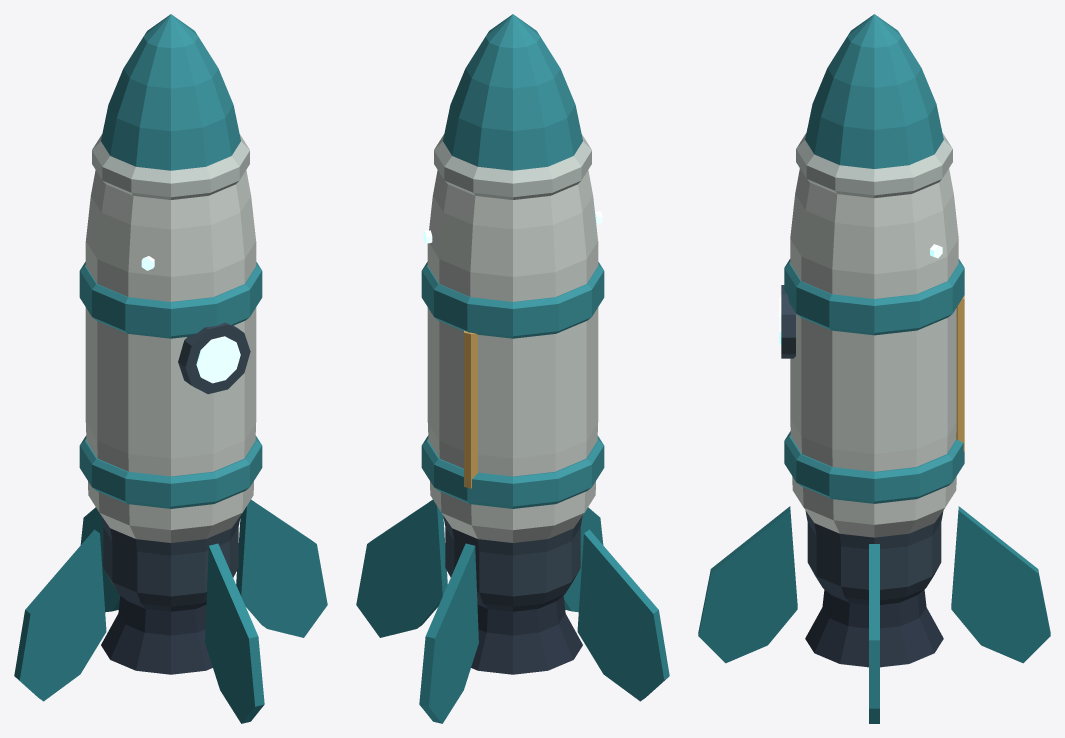
Rendered from explorer-rocket-v1.glb.
The picture shows the model from 3 angles, left to right: view 1: azimuth 30°, elevation 25°; view 2: azimuth 150°, elevation 25°; view 3: azimuth 270°, elevation 25°; orthographic projection.
Visible parts, largest first — view 1: ROCKET_HULL, ROCKET_NOSE_CONE, ROCKET_FIN_3, ROCKET_FIN_1, ROCKET_ENGINE_HOUSING, ROCKET_BAND_UPPER, ROCKET_FIN_4, ROCKET_NOZZLE, ROCKET_BAND_LOWER, ROCKET_COLLAR, ROCKET_COCKPIT_RIM, ROCKET_COCKPIT_GLASS (+1 smaller); view 2: ROCKET_HULL, ROCKET_NOSE_CONE, ROCKET_FIN_3, ROCKET_FIN_1, ROCKET_ENGINE_HOUSING, ROCKET_BAND_UPPER, ROCKET_FIN_2, ROCKET_NOZZLE, ROCKET_BAND_LOWER, ROCKET_COLLAR, ROCKET_DORSAL_STRIP, ROCKET_FIN_4; view 3: ROCKET_HULL, ROCKET_NOSE_CONE, ROCKET_FIN_2, ROCKET_FIN_4, ROCKET_ENGINE_HOUSING, ROCKET_NOZZLE, ROCKET_BAND_UPPER, ROCKET_BAND_LOWER, ROCKET_COLLAR, ROCKET_FIN_1, ROCKET_DORSAL_STRIP, ROCKET_COCKPIT_RIM.
Boxes of the visible parts, x1,y1,x2,y2 form: ROCKET_HULL: (85,170,256,542); ROCKET_NOSE_CONE: (101,14,240,170); ROCKET_FIN_3: (14,529,106,701); ROCKET_FIN_1: (236,499,327,637); ROCKET_ENGINE_HOUSING: (101,516,240,606); ROCKET_BAND_UPPER: (79,262,262,338); ROCKET_FIN_4: (205,543,264,723); ROCKET_NOZZLE: (101,595,212,674); ROCKET_BAND_LOWER: (79,435,262,508); ROCKET_COLLAR: (92,134,249,199); ROCKET_COCKPIT_RIM: (178,322,250,394); ROCKET_COCKPIT_GLASS: (196,336,240,383); ROCKET_HULL: (427,170,598,542); ROCKET_NOSE_CONE: (443,14,582,170); ROCKET_FIN_3: (577,529,669,701); ROCKET_FIN_1: (356,499,447,637); ROCKET_ENGINE_HOUSING: (443,516,582,606); ROCKET_BAND_UPPER: (421,262,604,338); ROCKET_FIN_2: (419,543,478,723); ROCKET_NOZZLE: (471,595,582,674); ROCKET_BAND_LOWER: (421,435,604,508); ROCKET_COLLAR: (434,134,591,199); ROCKET_DORSAL_STRIP: (464,330,477,488); ROCKET_FIN_4: (563,507,603,612); ROCKET_HULL: (790,168,958,537); ROCKET_NOSE_CONE: (805,14,943,168); ROCKET_FIN_2: (951,506,1050,663); ROCKET_FIN_4: (698,506,797,663); ROCKET_ENGINE_HOUSING: (805,510,943,600); ROCKET_NOZZLE: (805,589,943,667); ROCKET_BAND_UPPER: (784,259,964,335); ROCKET_BAND_LOWER: (784,431,964,503); ROCKET_COLLAR: (796,133,952,198); ROCKET_FIN_1: (869,544,879,723); ROCKET_DORSAL_STRIP: (956,295,964,451); ROCKET_COCKPIT_RIM: (781,285,795,358).
Bounding box in the file's own units: 0.71 × 1.44 × 0.71.
